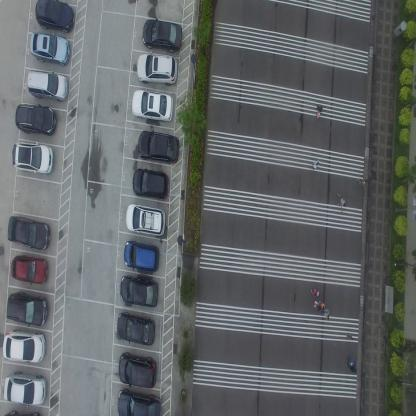car: (7, 215, 51, 251), (3, 328, 46, 364), (6, 290, 48, 326), (11, 140, 54, 175), (2, 372, 46, 406), (29, 30, 70, 66), (137, 130, 179, 165), (131, 88, 174, 122), (14, 102, 57, 136), (125, 202, 166, 237), (136, 52, 178, 86), (118, 352, 156, 389), (142, 19, 182, 54), (27, 69, 68, 103), (35, 0, 75, 34), (119, 275, 158, 309), (117, 312, 155, 346), (131, 167, 169, 200), (10, 254, 48, 284), (123, 241, 159, 272), (118, 390, 162, 415)
